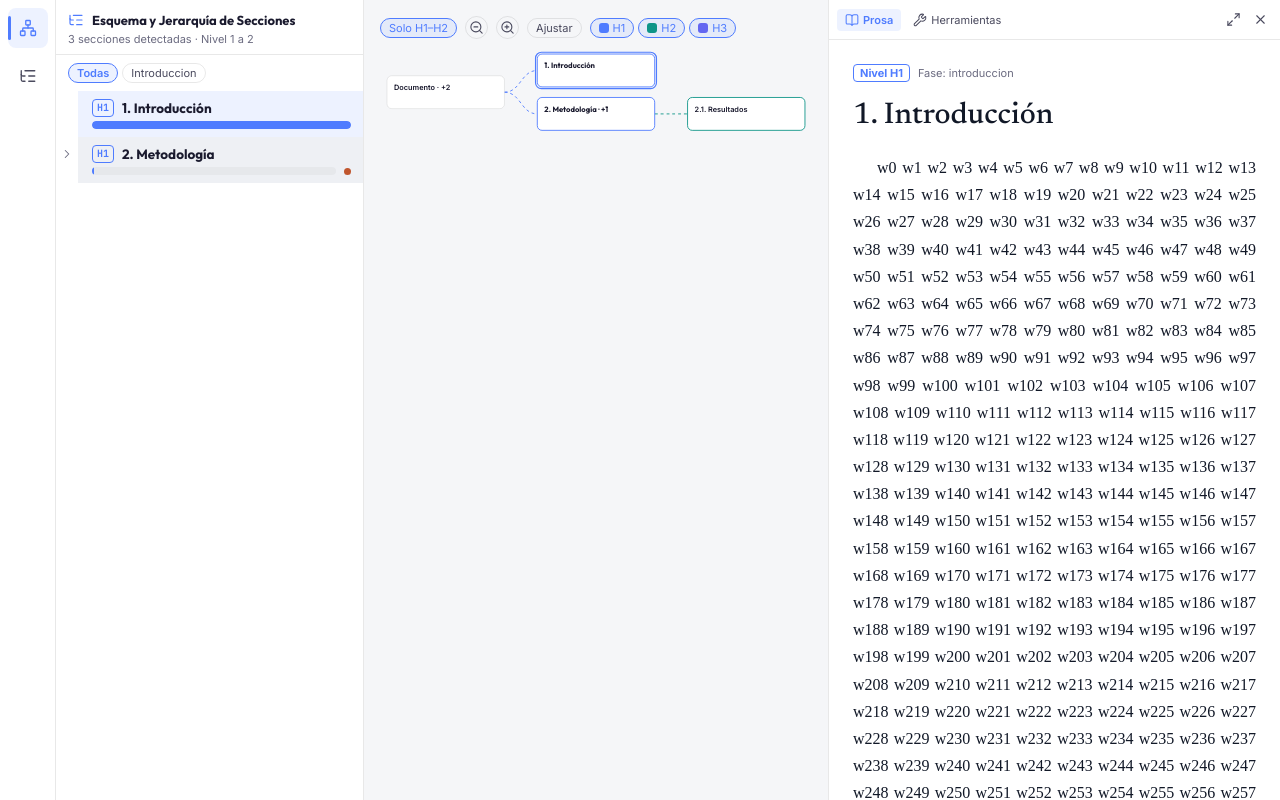
la fase de Estructura está montada › tocar un título abre la prosa de esa sección
Step 1. Click the tab "Herramientas" → (957, 20), box x1=905 y1=8 x2=1009 y2=30
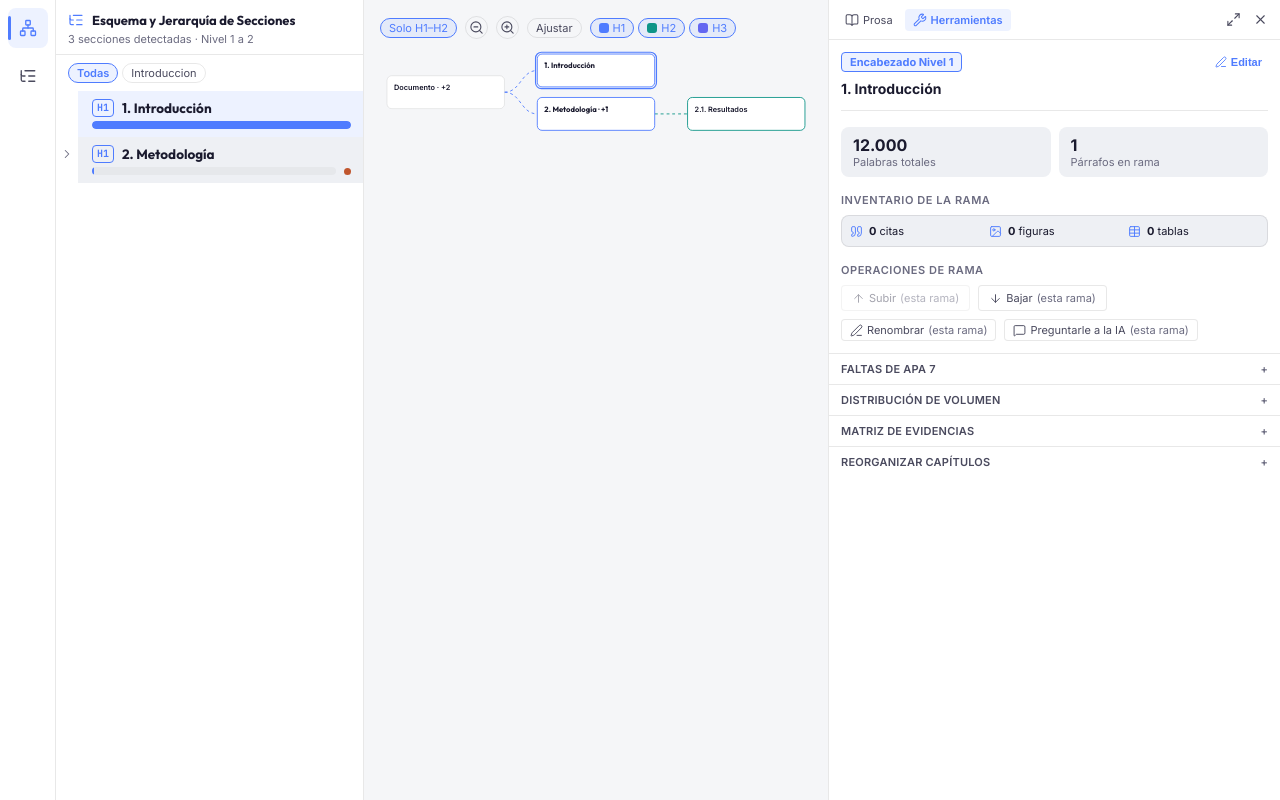
Check: the element with test id "panel-herramientas" is shown, box x1=829 y1=40 x2=1279 y2=477
Step 2. Click the text "2. Metodología" → (168, 154), box x1=122 y1=145 x2=215 y2=163
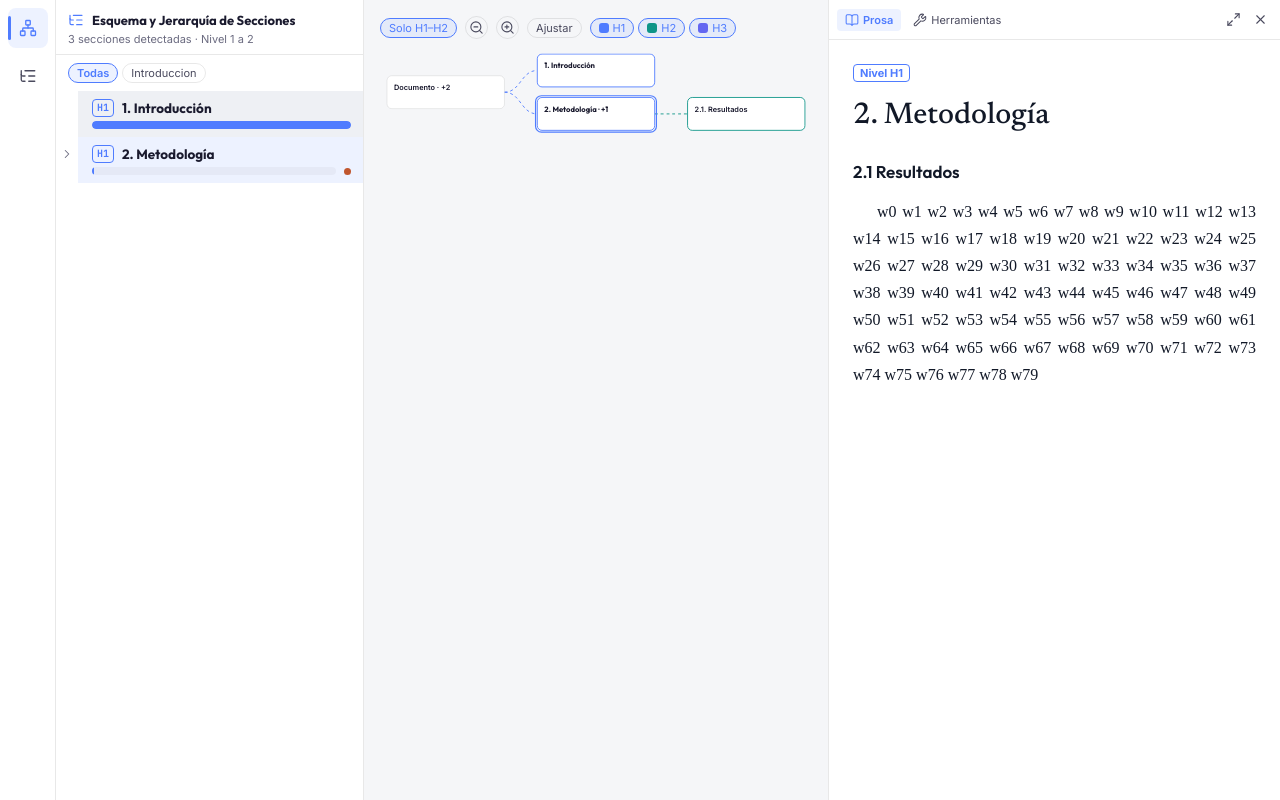
Check: the element with test id "prosa-seccion" shows "2. Metodología", box x1=853 y1=101 x2=1050 y2=131
Check: the element with test id "panel-herramientas" is gone
